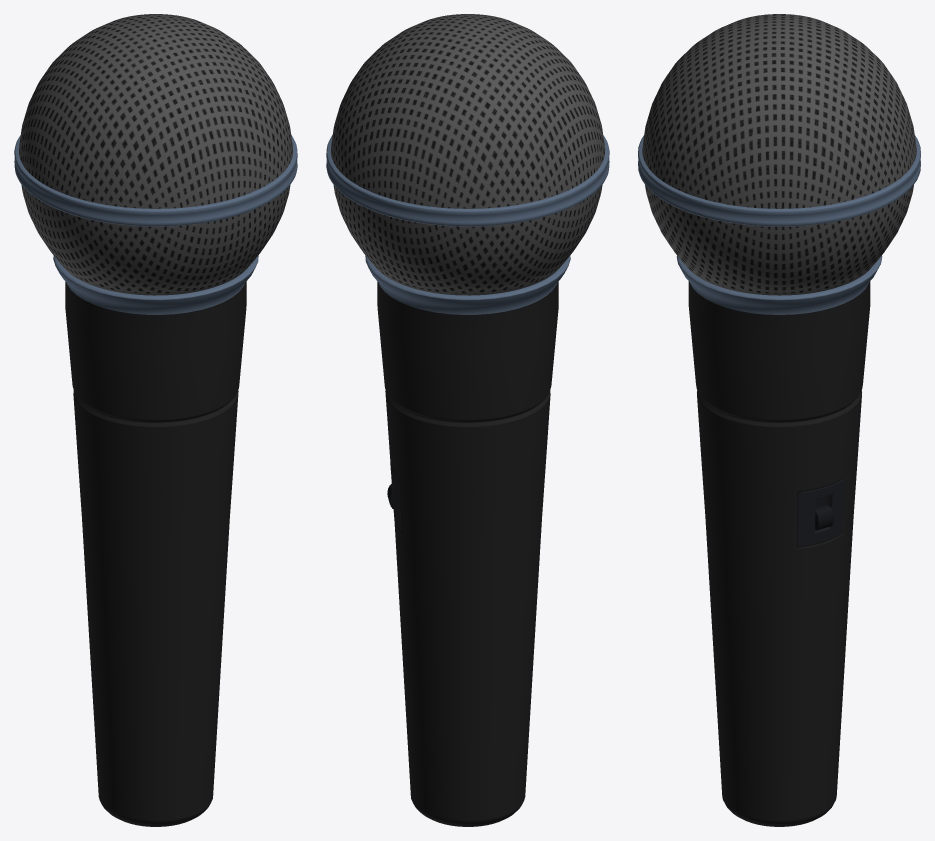
Rendered from mic.glb.
3 renders of one model, left to right at view 1: azimuth 30°, elevation 25°; view 2: azimuth 150°, elevation 25°; view 3: azimuth 270°, elevation 25°, orthographic.
Visible parts, largest first — view 1: node_id30; view 2: node_id30; view 3: node_id30.
Part boxes in pixels (x1,y1,x2,y2): node_id30: (14, 14, 297, 826); node_id30: (326, 14, 609, 826); node_id30: (638, 14, 920, 826).
Size of the model in its own units: 0.1675 by 0.512 by 0.1675.
1 material, 1 textured.
